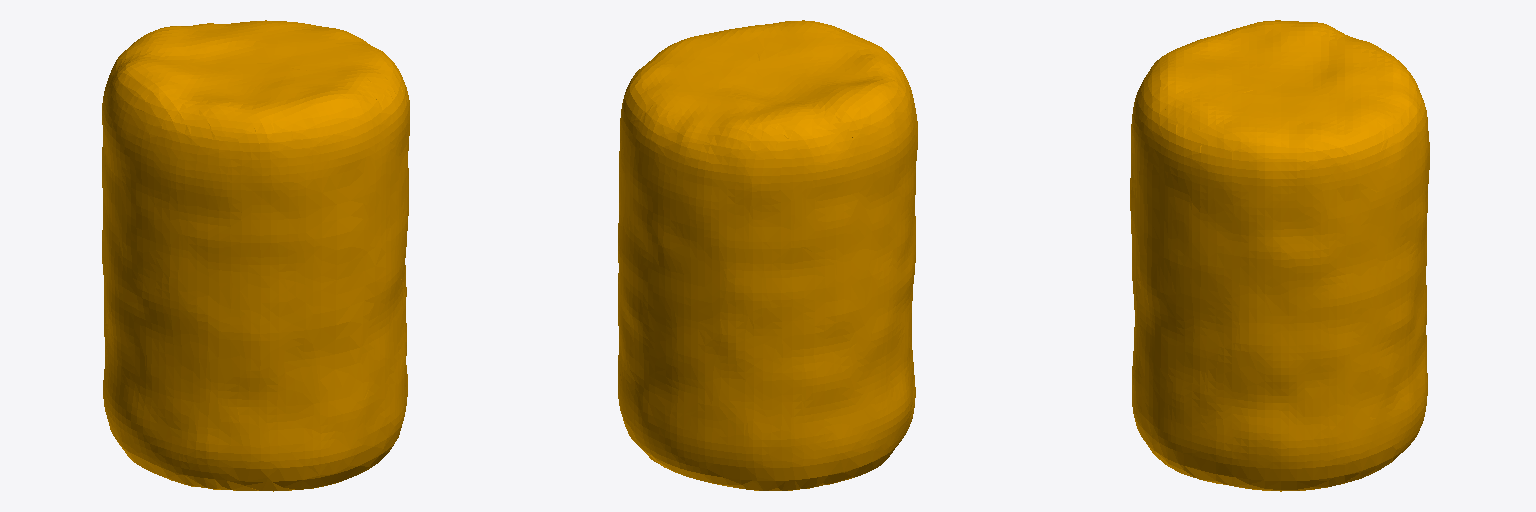
The robot description file, URDF, robot "005_tomato_soup_can":
<?xml version="1.0"?>
<robot name="005_tomato_soup_can">
  <link name="base_link">
    <inertial>
      <origin xyz="0.003002 0.006240 0.049910" rpy="0 0 0" />
      <mass value="0.351595" />
      <inertia ixx="0.00036102" ixy="0.00000091" ixz="0.00000308"
               iyy="0.00036053" iyz="0.00000164" izz="0.00020613" />
    </inertial>
    <visual>
      <geometry><mesh filename="005_tomato_soup_can.stl" scale="1.0 1.0 1.0" /></geometry>
    </visual>
    <collision>
      <geometry><mesh filename="005_tomato_soup_can_col.obj" scale="1.0 1.0 1.0" /></geometry>
    </collision>
    <contact>
      <lateral_friction value="1.0"/>
    </contact>
  </link>
</robot>

--- Render facts (derived) ---
3 views of the same robot in one strip: view 1: azimuth 30°, elevation 25°; view 2: azimuth 150°, elevation 25°; view 3: azimuth 270°, elevation 25° (orthographic).
Model 005_tomato_soup_can with 1 links and 0 joints (none), rooted at base_link, posed every joint at zero.
Links seen in each view (by area): view 1: base_link; view 2: base_link; view 3: base_link.
Boxes of the visible links, x1,y1,x2,y2 form: base_link: (102,20,409,491); base_link: (618,20,917,490); base_link: (1130,20,1429,491).
Size in the robot's own frame: 0.0708 by 0.0709 by 0.0996 metres.
Meshes: 1 distinct files referenced, 1 mesh visuals loaded (1 binary STL).
